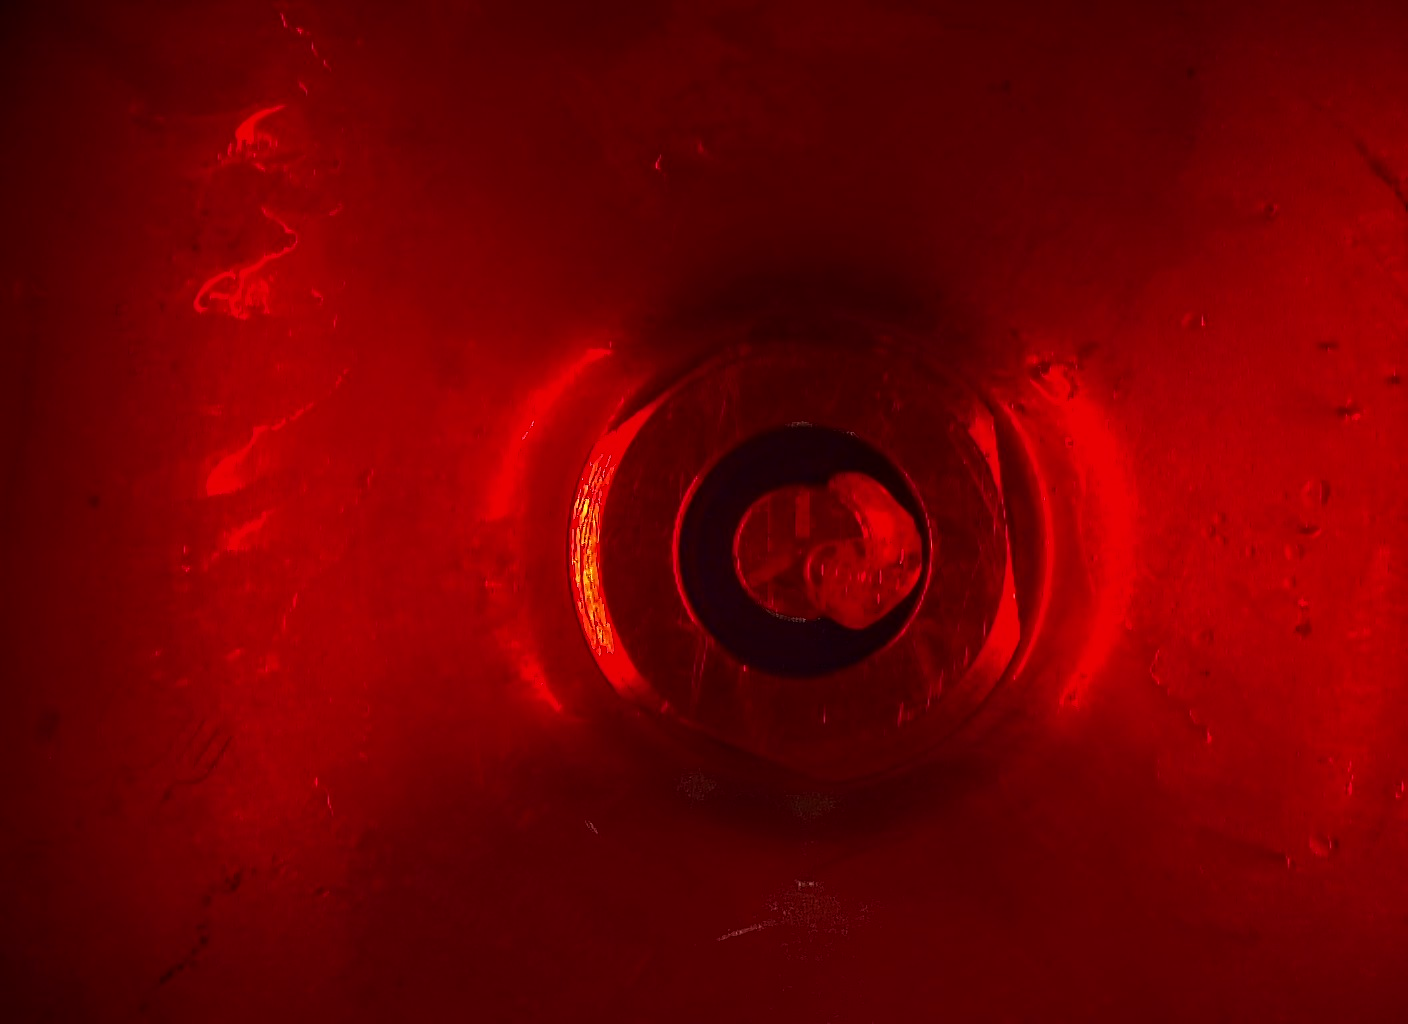pena: (802, 464, 930, 634)
